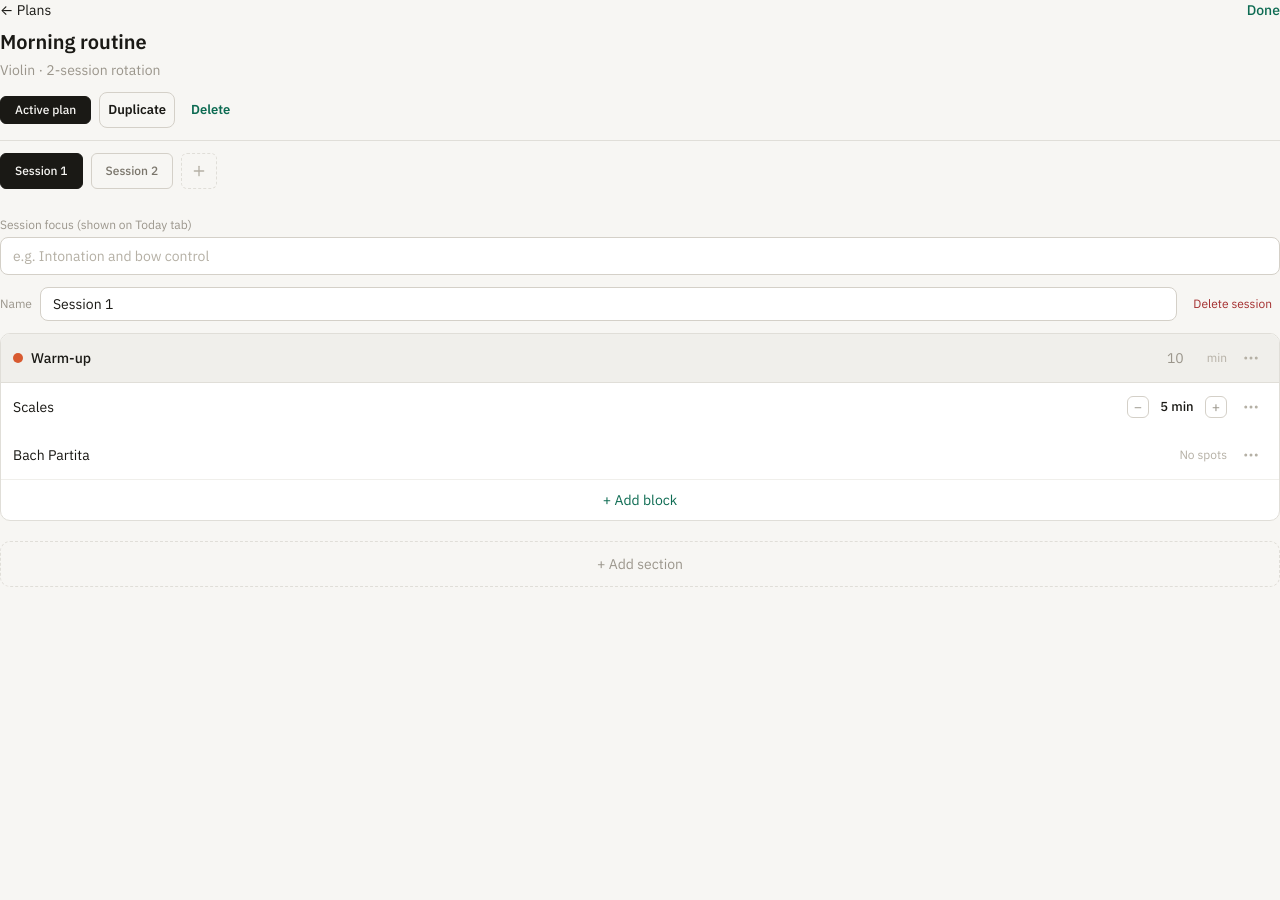
Test: TemplateEditorPage — destructive confirmations › omits the spot cascade for a repertoire block with no defaults
Expected: the 1st field showing "Morning routine" is shown, [0, 28, 1279, 56]
Click the button named "Bach Partita actions". click: (1251, 454)
box: [1235, 438, 1267, 470]
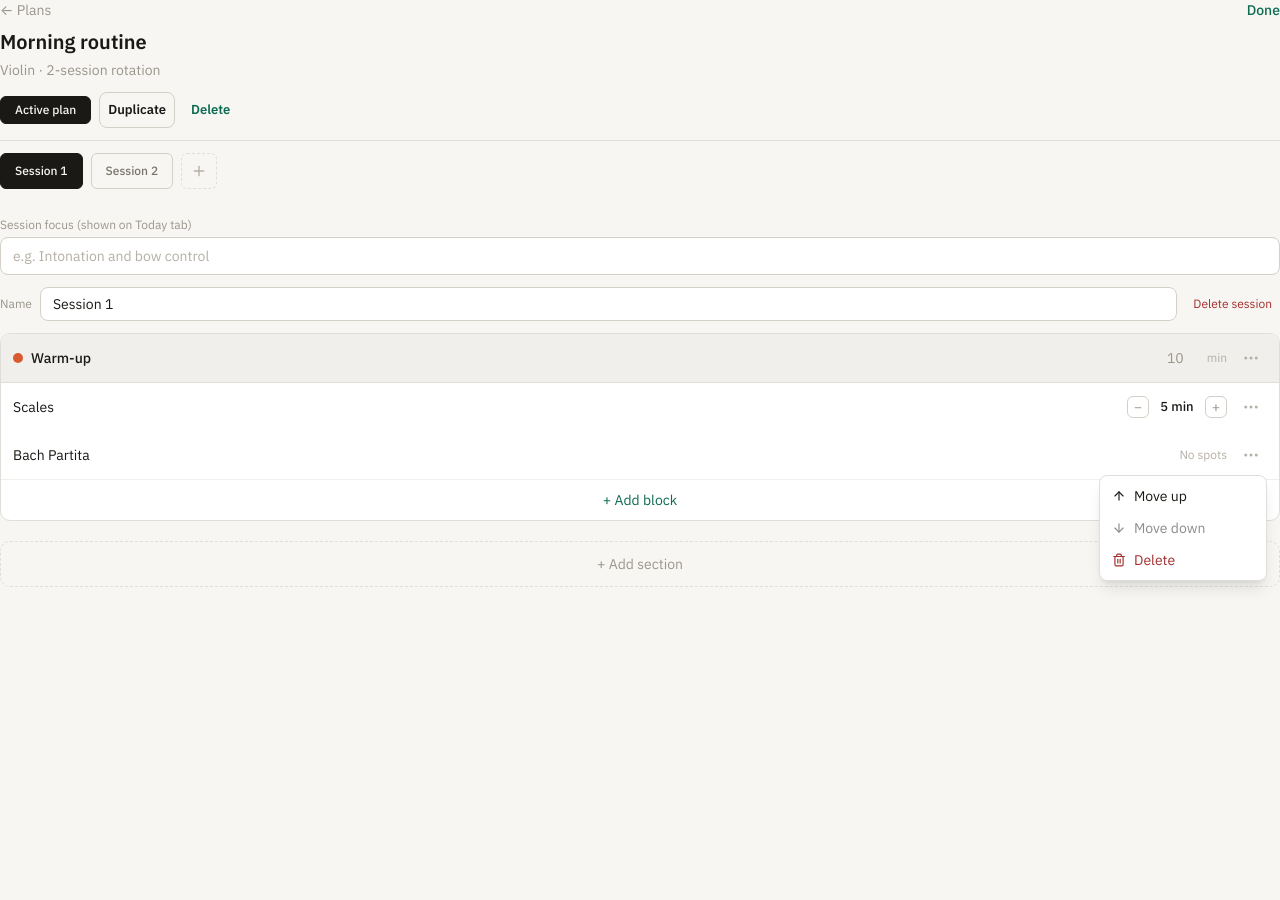
Click the menu item "Delete". click: (1144, 560)
box: [1112, 551, 1175, 569]
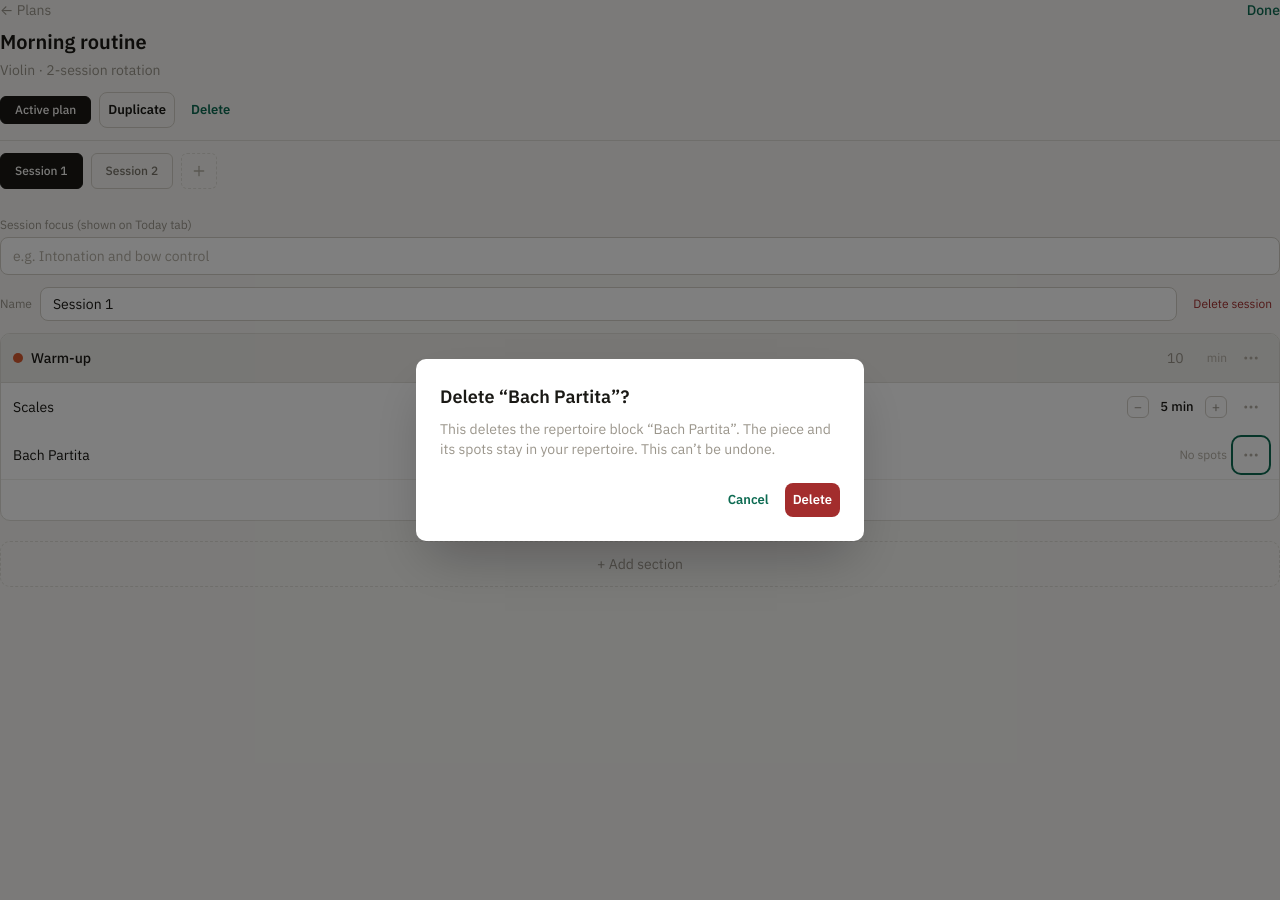
Expected: the dialog does not show "0 default spot", [416, 359, 864, 541]
Expected: the dialog shows "The piece and its spots stay in your repertoire.", [440, 420, 831, 458]
